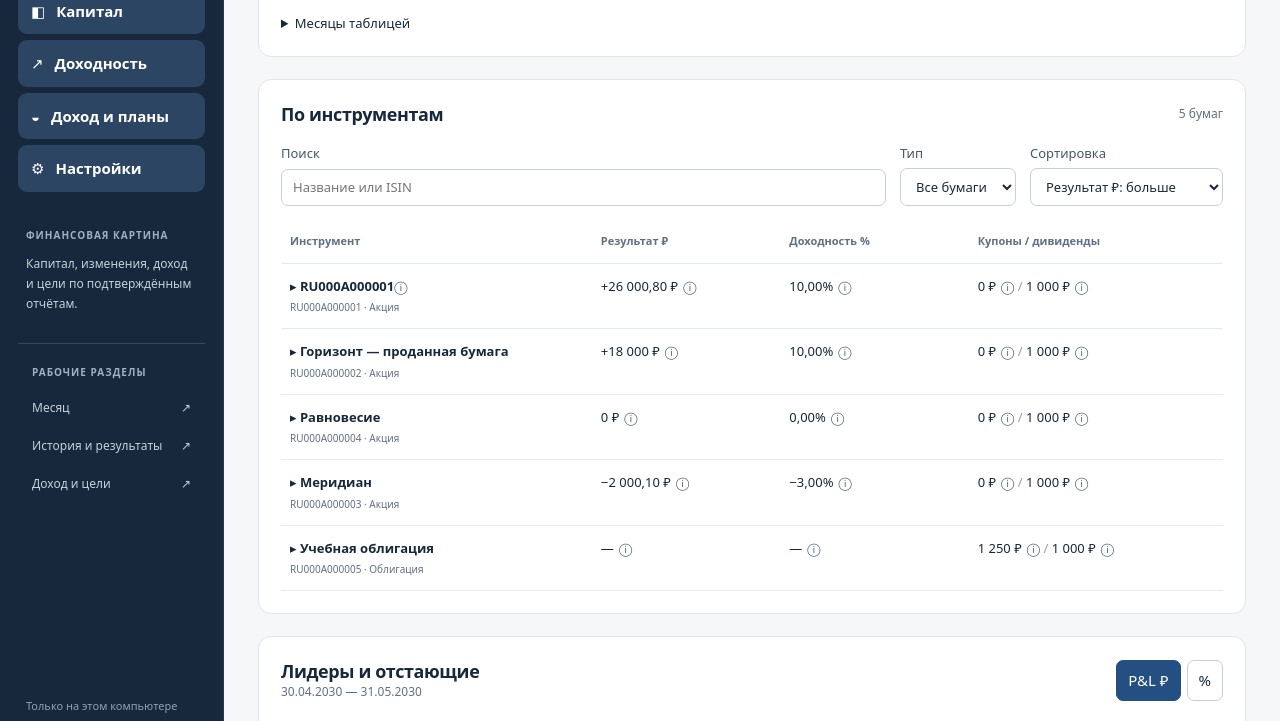
Test case: missing name is explained in table, tops and lazy detail without a lookup
The width and height of the screenshot is (1280, 721).
(page scrolled)
What coordinates should you click on to do the following:
click the button "▸ RU000A000001"
I would click on:
 (342, 287)
Its box is [290,277,394,296].
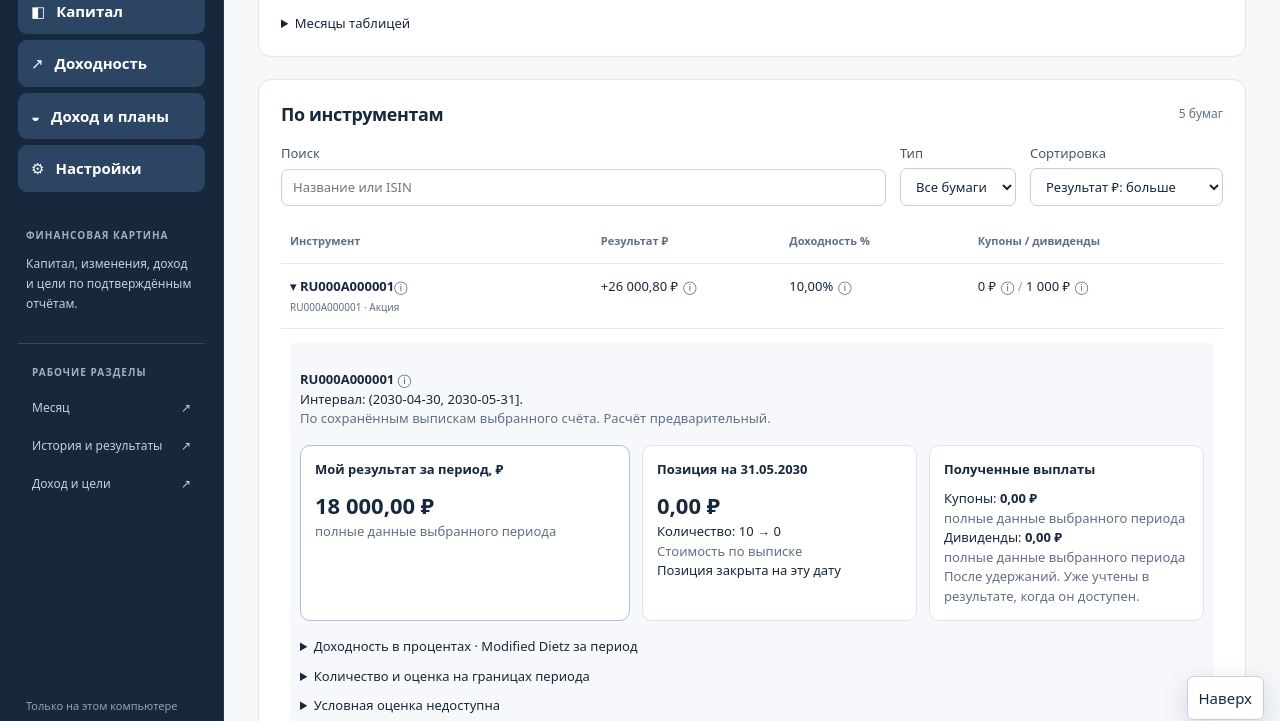
Now the text "Количество: 10 → 0" is shown, box [657,522,781,540]
Now the number of headings named "Подробнее: Название RU000A000001" is 3
